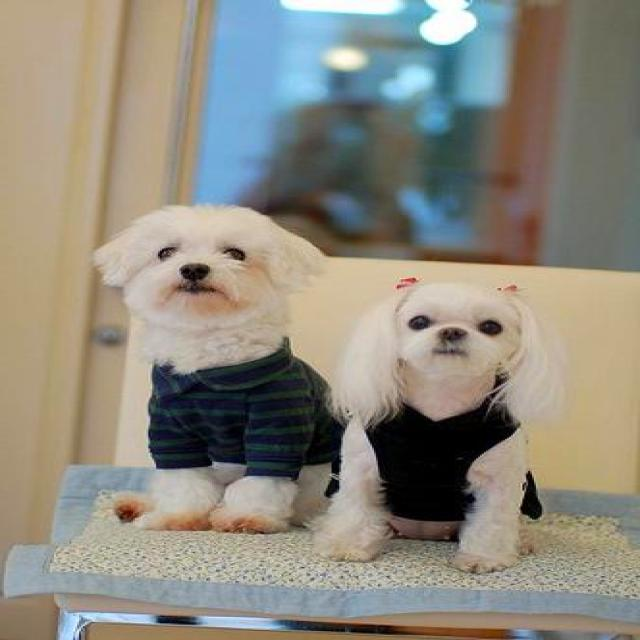maltese_dog: (94, 206, 340, 539), (310, 276, 572, 574)
